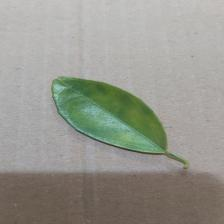greening: (84, 100, 162, 141)
